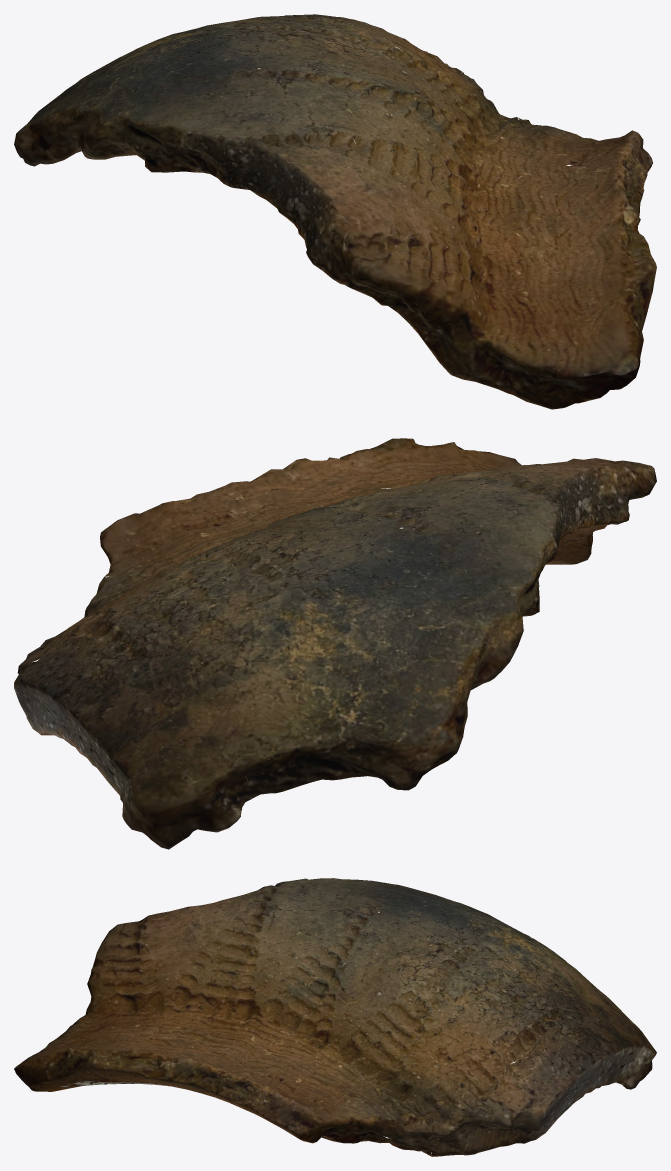
File: nlq.glb
3 renders of one model, top to bottom at view 1: azimuth 30°, elevation 25°; view 2: azimuth 150°, elevation 25°; view 3: azimuth 270°, elevation 25°, orthographic. The views are drawn at different scales.
Size of the model in its own units: 0.0755 by 0.0304 by 0.117.
1 material, 1 textured.
